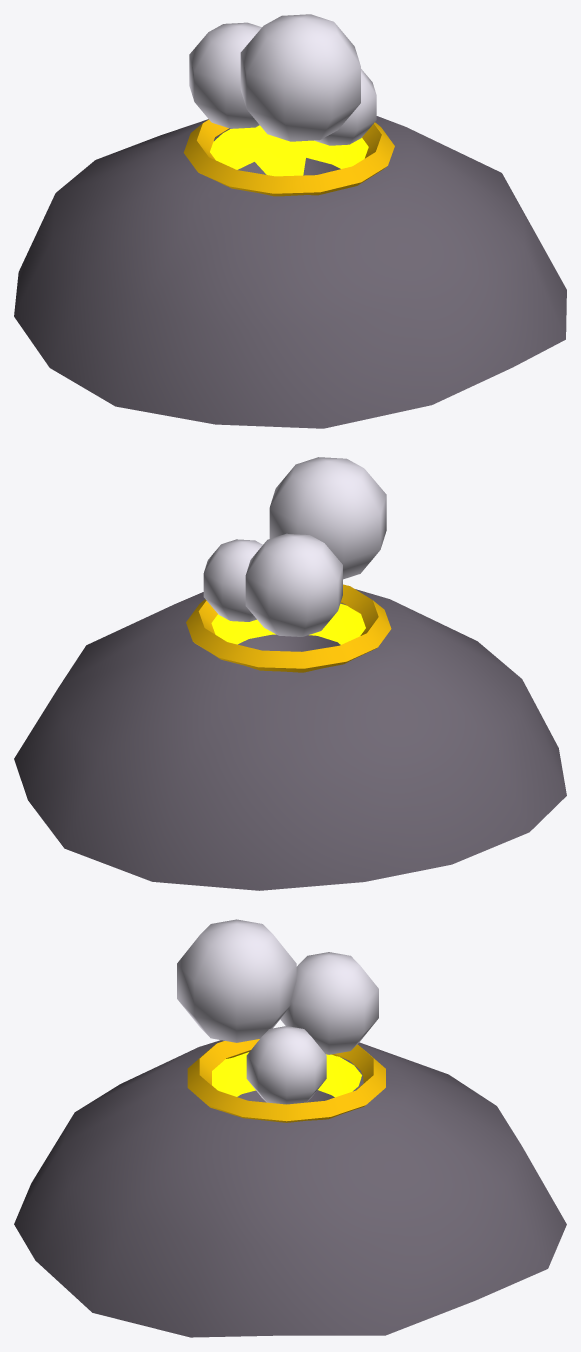
File: W4_GeyserVent.fbx
The picture shows the model from 3 angles, top to bottom: view 1: azimuth 30°, elevation 25°; view 2: azimuth 150°, elevation 25°; view 3: azimuth 270°, elevation 25°; orthographic projection. The views are drawn at different scales.
Parts seen in each view (by area): view 1: W4_GeyserVent; view 2: W4_GeyserVent; view 3: W4_GeyserVent.
Part boxes in pixels (x1,y1,x2,y2): W4_GeyserVent: (14, 14, 566, 428); W4_GeyserVent: (14, 457, 566, 890); W4_GeyserVent: (14, 919, 566, 1337).
Bounding box in the file's own units: 5.17 × 3.16 × 5.27.
